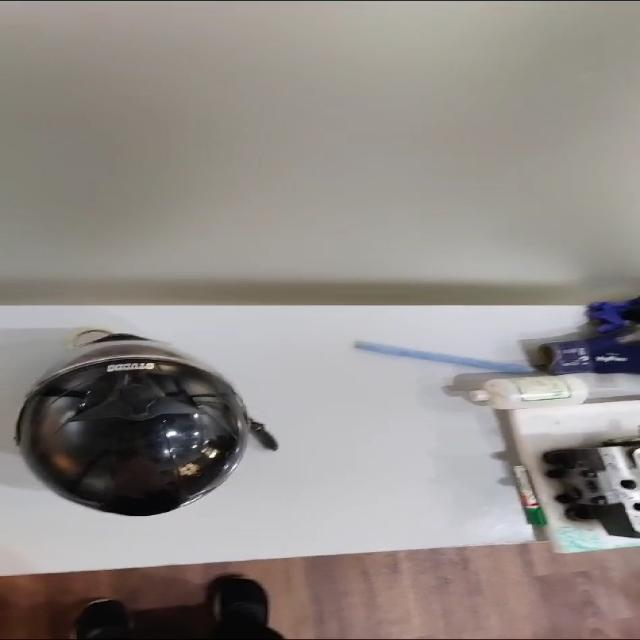helmet: (16, 331, 277, 516)
